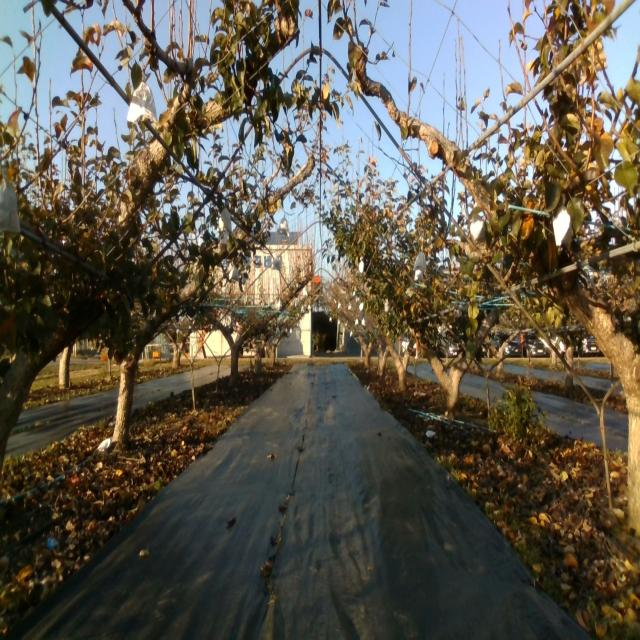pearbags: (126, 80, 158, 125), (0, 174, 20, 238), (551, 207, 573, 247), (216, 207, 232, 234), (470, 215, 484, 242), (413, 251, 427, 272), (277, 215, 290, 236)
